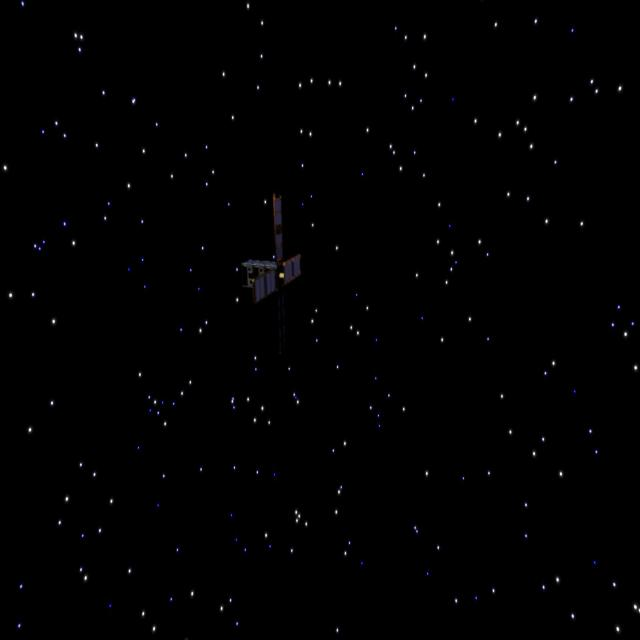satellite: (233, 182, 307, 320)
